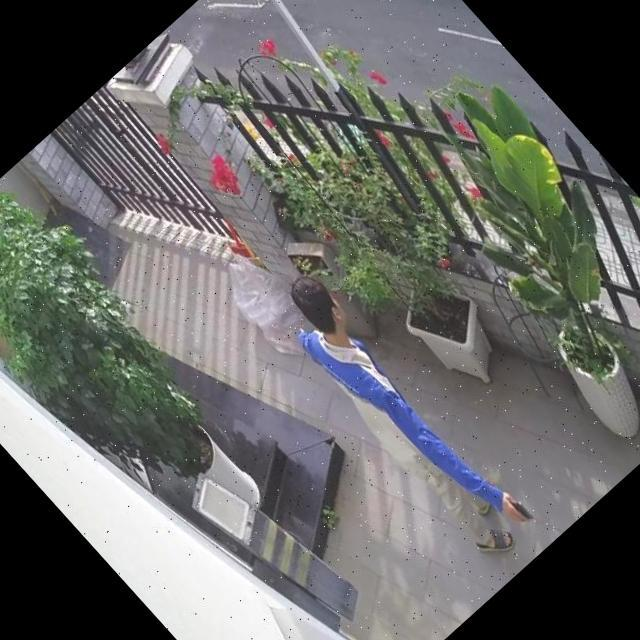person: (260, 266, 544, 571)
